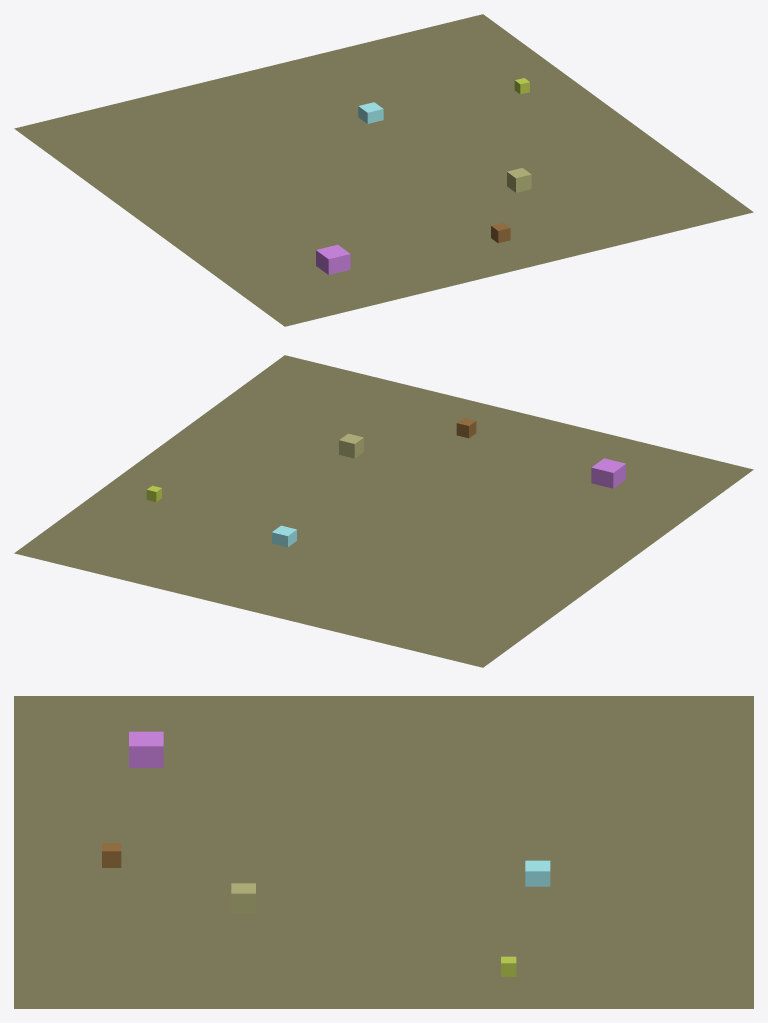
The picture shows the model from 3 angles, top to bottom: view 1: azimuth 30°, elevation 25°; view 2: azimuth 150°, elevation 25°; view 3: azimuth 270°, elevation 25°; orthographic projection. The views are drawn at different scales.
Parts seen in each view (by area): view 1: Chunk_0_-1; view 2: Chunk_0_-1; view 3: Chunk_0_-1.
Boxes of the visible parts, x1,y1,x2,y2 form: Chunk_0_-1: (14,14,753,326); Chunk_0_-1: (14,355,753,667); Chunk_0_-1: (14,696,753,1008).
Size of the model in its own units: 1500 by 70.45 by 1500.
